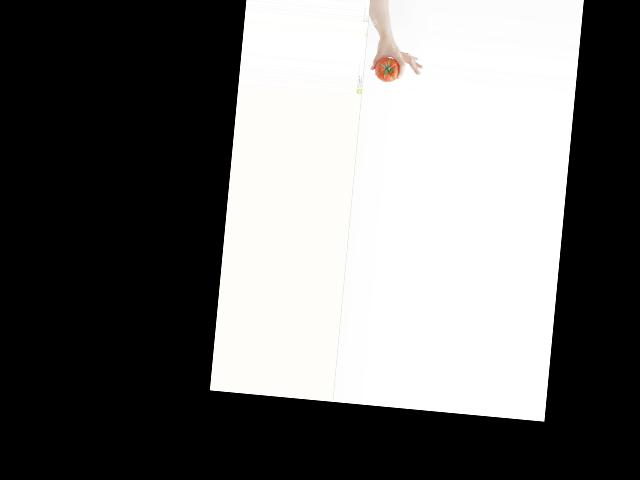tomato: (373, 56, 400, 82)
